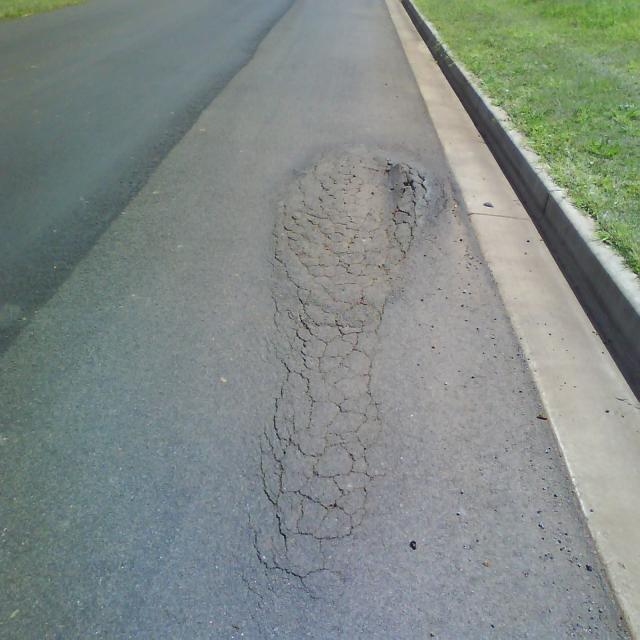Drain Hole: (275, 158, 454, 560)
